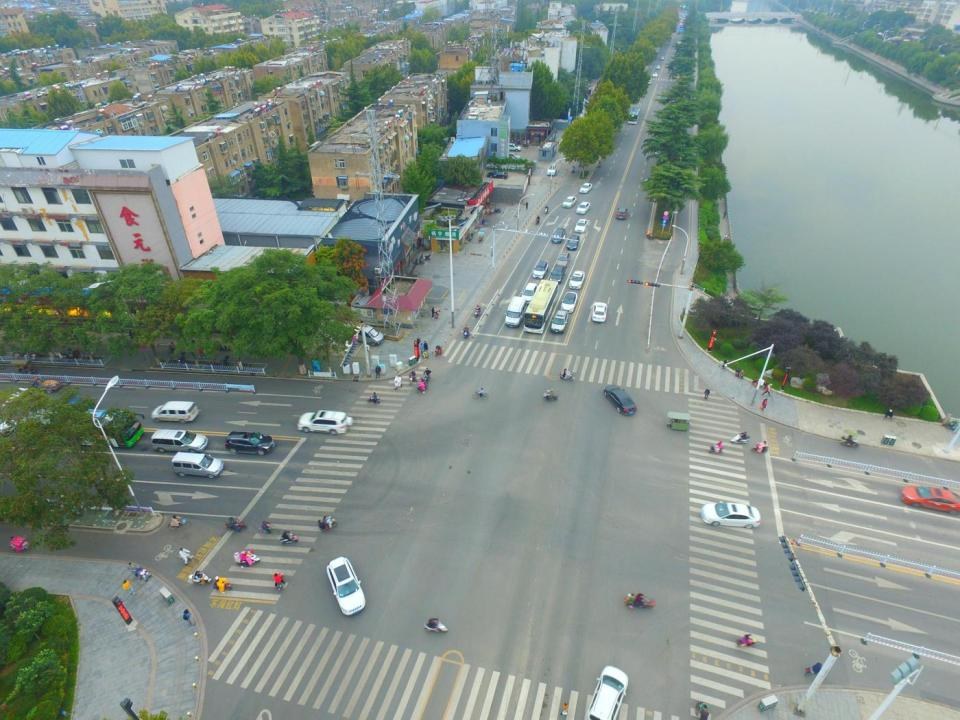bus: (17, 408, 147, 448), (523, 279, 558, 333), (628, 107, 639, 125)
car: (325, 554, 365, 616), (900, 485, 960, 516), (700, 500, 762, 530), (296, 411, 349, 437), (224, 429, 276, 454), (602, 385, 637, 415), (53, 394, 94, 419), (550, 309, 568, 334), (560, 291, 578, 313), (520, 282, 537, 305), (592, 300, 608, 323), (532, 258, 548, 280), (568, 270, 585, 290), (548, 265, 566, 283), (556, 250, 571, 268), (551, 228, 566, 244), (575, 201, 591, 215), (562, 195, 577, 208), (567, 235, 580, 250), (616, 206, 629, 221), (485, 170, 509, 178), (644, 176, 655, 192), (575, 219, 587, 233), (504, 142, 522, 151), (546, 163, 557, 176), (579, 182, 592, 193), (660, 91, 672, 102), (502, 154, 518, 162), (506, 152, 521, 159), (645, 78, 653, 86), (672, 72, 679, 80), (652, 72, 658, 78), (656, 64, 660, 70), (660, 56, 664, 61)
van: (150, 427, 209, 455), (169, 452, 222, 483), (338, 318, 385, 346), (152, 398, 199, 422), (503, 297, 528, 327)
